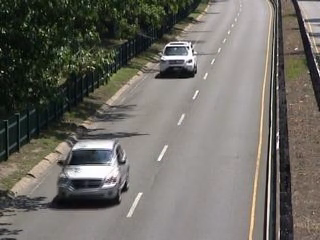car: (51, 136, 135, 209), (157, 38, 201, 78)
